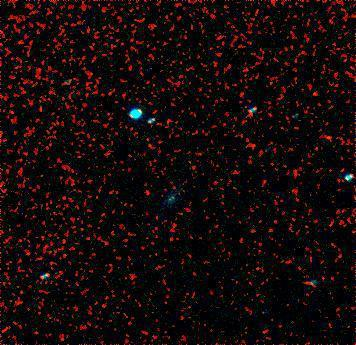star: (297, 78, 327, 108)
